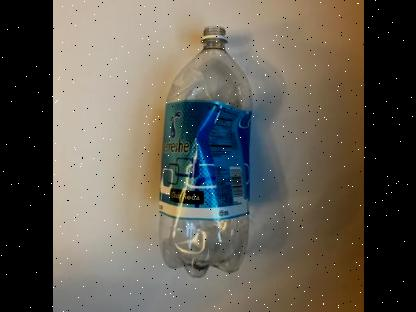Plastic Bottle: (158, 27, 251, 279)
